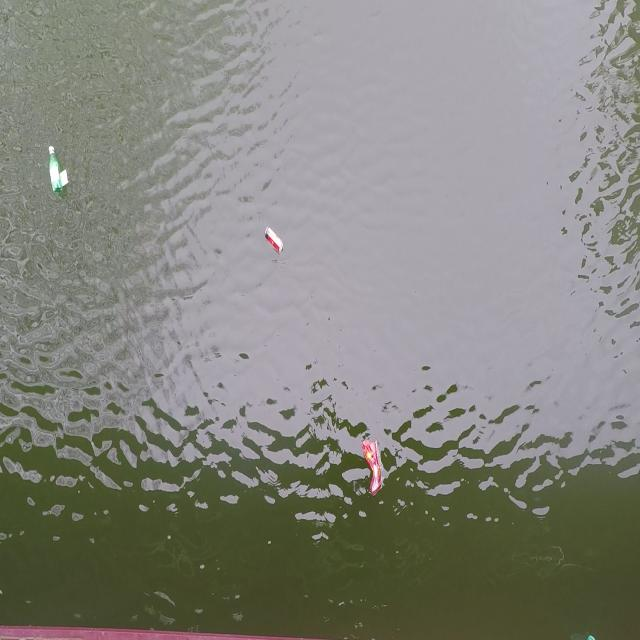Bouteille plastique: (42, 143, 62, 194)
Non plastique: (262, 225, 286, 257)
Sac plastique: (357, 428, 390, 499)
